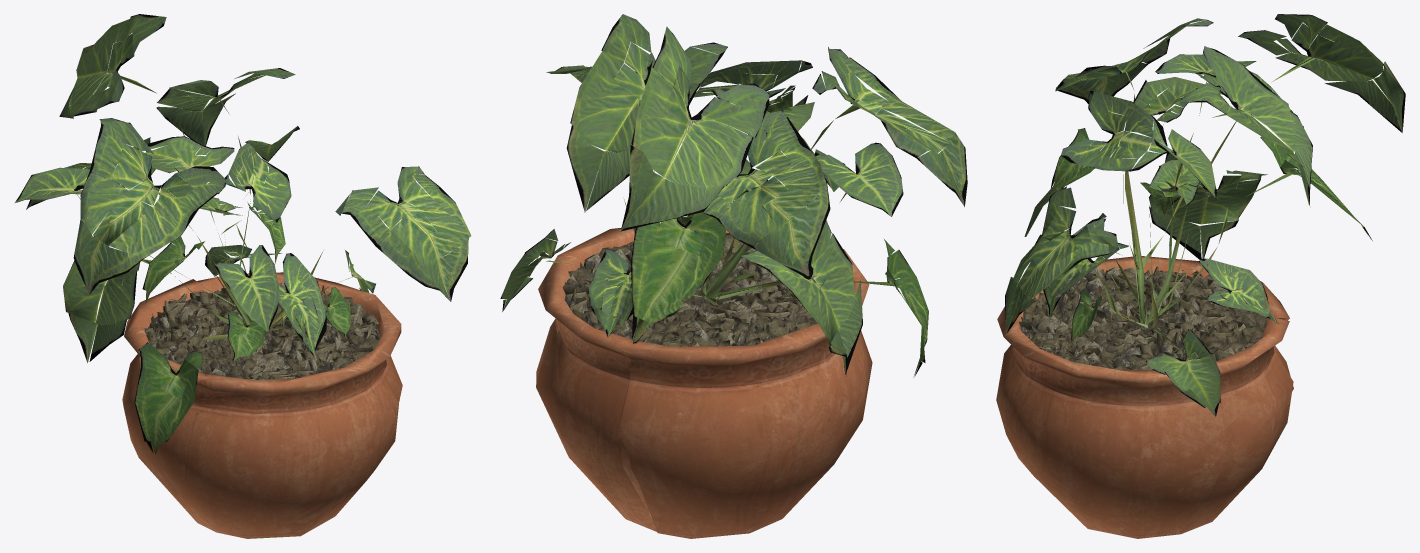
File: potted_plant_02.glb
3 views of the same model, side by side, from view 1: azimuth 30°, elevation 25°; view 2: azimuth 150°, elevation 25°; view 3: azimuth 270°, elevation 25° (orthographic). The views are drawn at different scales.
Visible parts, largest first — view 1: potted_plant_02_leaves, potted_plant_02_pot, potted_plant_02_dirt; view 2: potted_plant_02_leaves, potted_plant_02_pot, potted_plant_02_dirt; view 3: potted_plant_02_leaves, potted_plant_02_pot, potted_plant_02_dirt.
Part boxes in pixels (box(x1,y1,x2,y2)): potted_plant_02_leaves: box(15, 14, 471, 454); potted_plant_02_pot: box(122, 272, 402, 538); potted_plant_02_dirt: box(144, 282, 381, 395); potted_plant_02_leaves: box(500, 14, 967, 377); potted_plant_02_pot: box(536, 223, 872, 538); potted_plant_02_dirt: box(562, 231, 827, 357); potted_plant_02_leaves: box(1005, 14, 1405, 416); potted_plant_02_pot: box(996, 256, 1293, 538); potted_plant_02_dirt: box(1019, 266, 1269, 370).
Bounding box in the file's own units: 0.6977 × 0.8422 × 0.6578.
Materials: 2 (2 with a texture image).
